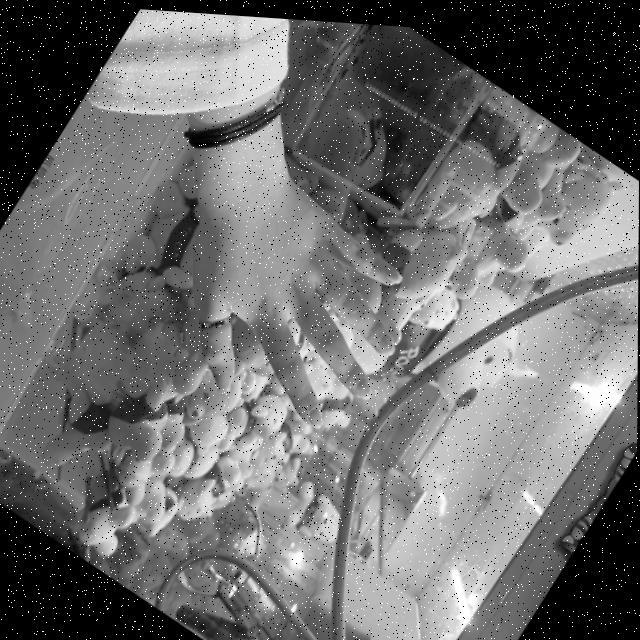no-gloves: (136, 144, 446, 468)
